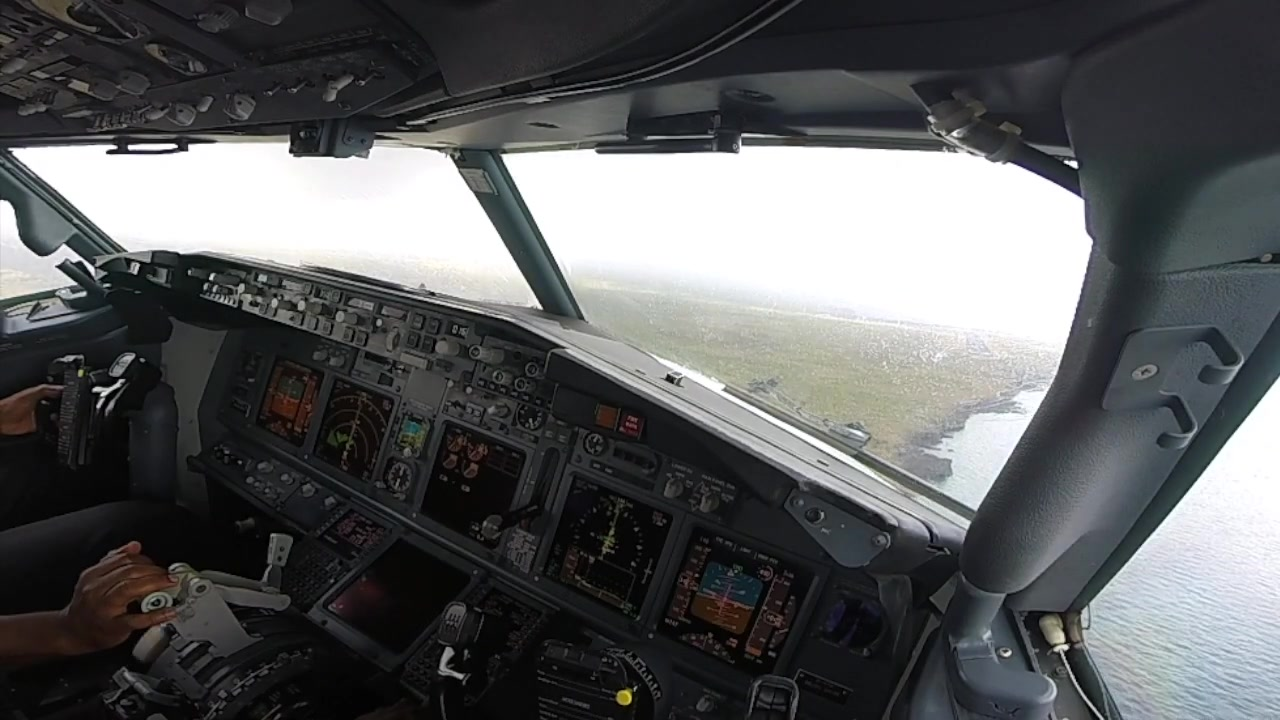runway: (961, 331, 997, 359)
